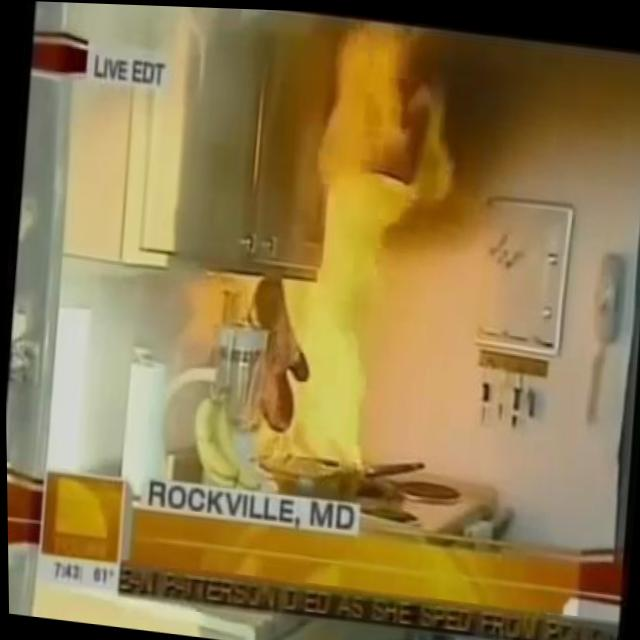fire: (235, 172, 411, 489)
